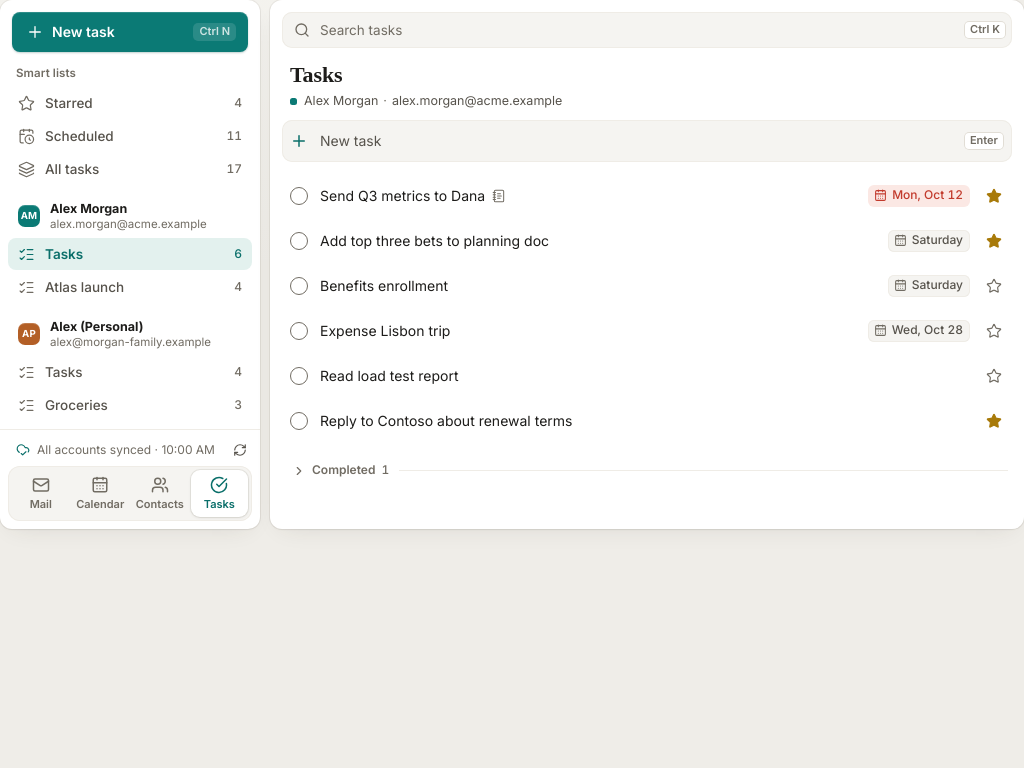
Test case: Adding tasks › keeps the text and shows an error when adding fails
In the field named "New task": [636, 141] box [320,120,952,162], type "Flaky"
Then press Enter
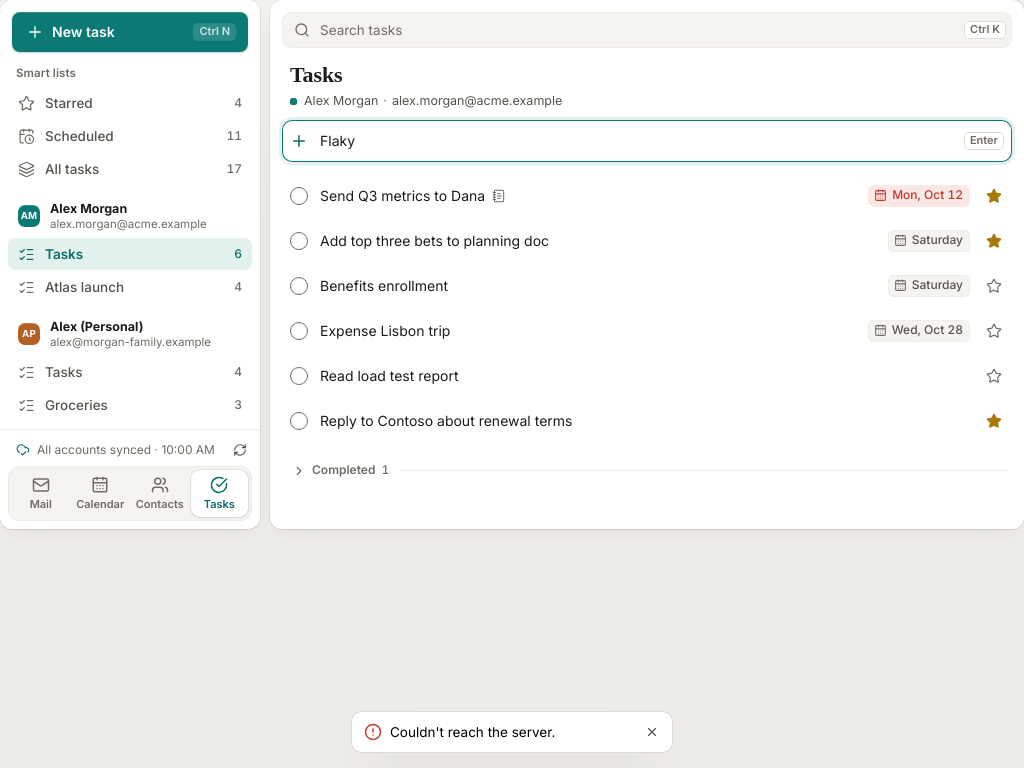
expect the text "Couldn't reach the server." is shown: met, box [390,724,555,740]
